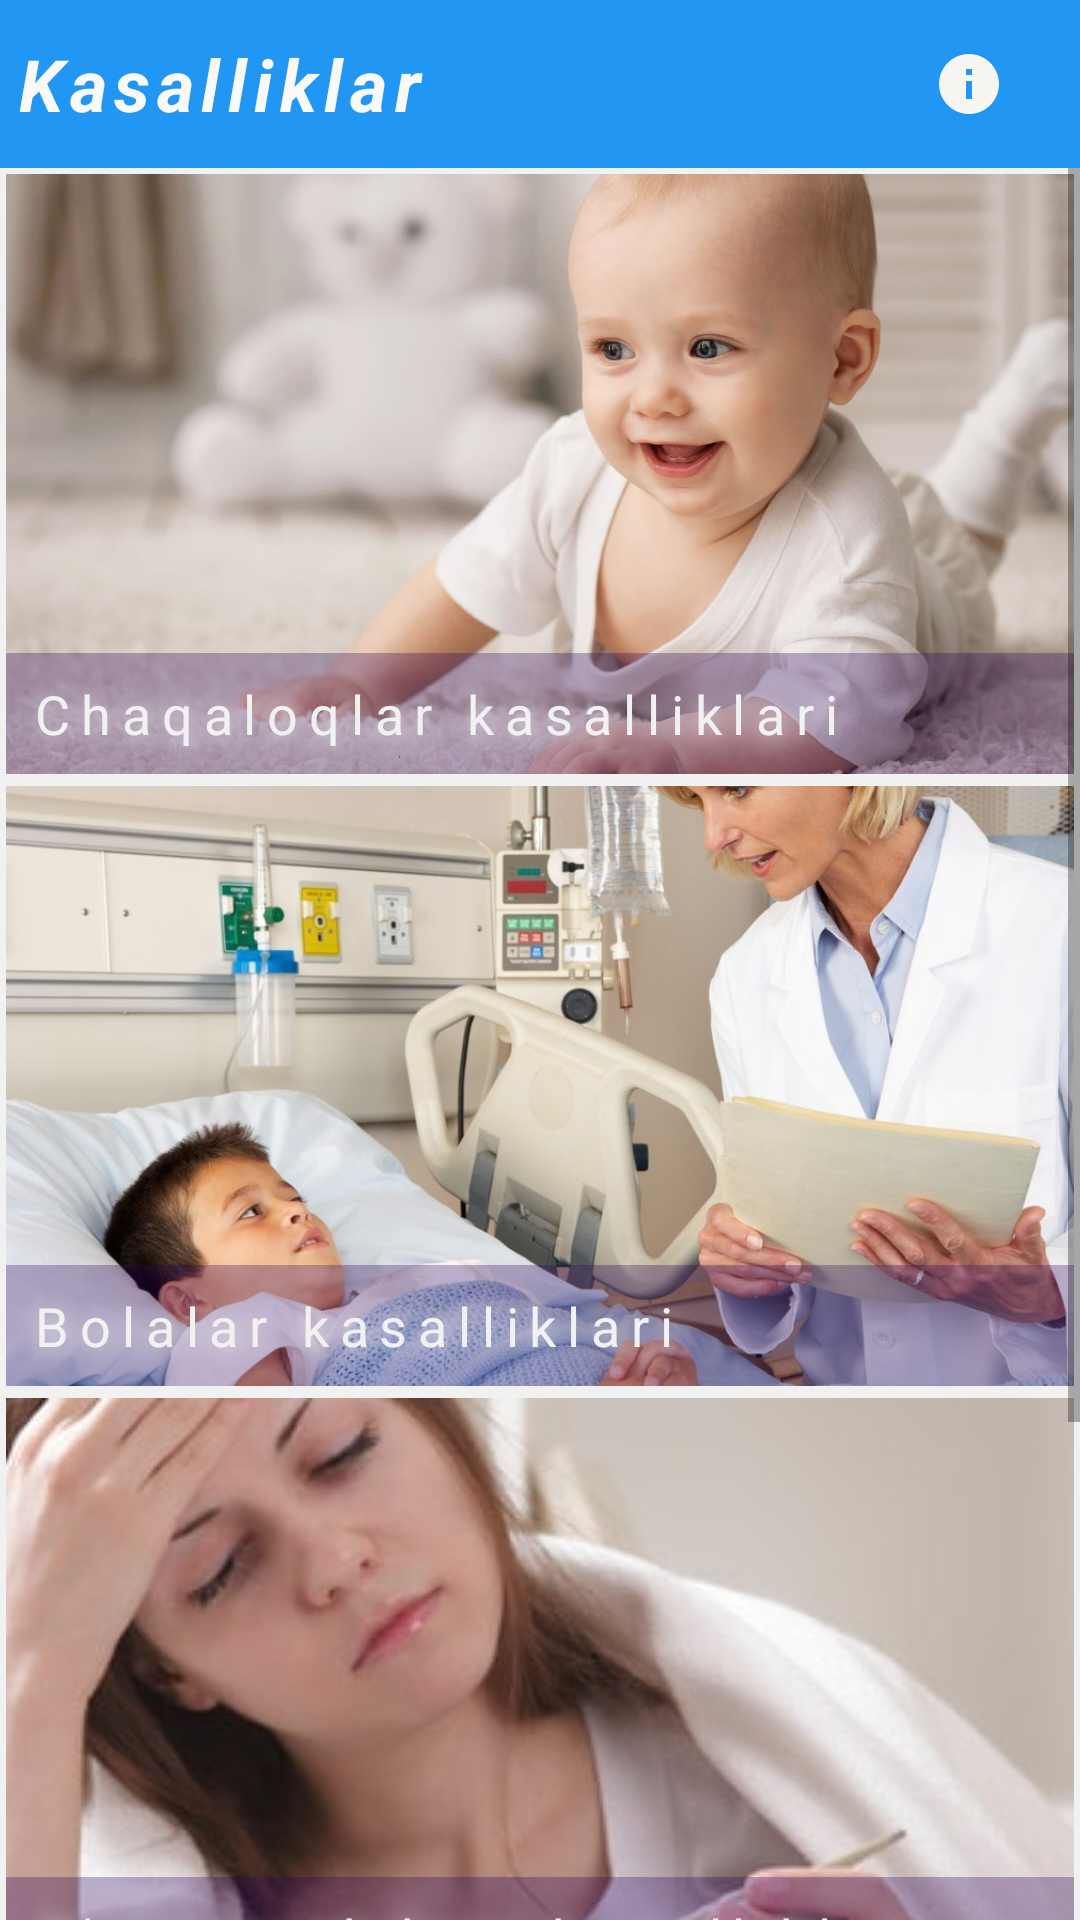

Screen size 1080x1920. Icon name, then its box in pixels as (x1=x1, y1=y1, x2=x2, y2=y2):
info: (x1=939, y1=54, x2=999, y2=114)
